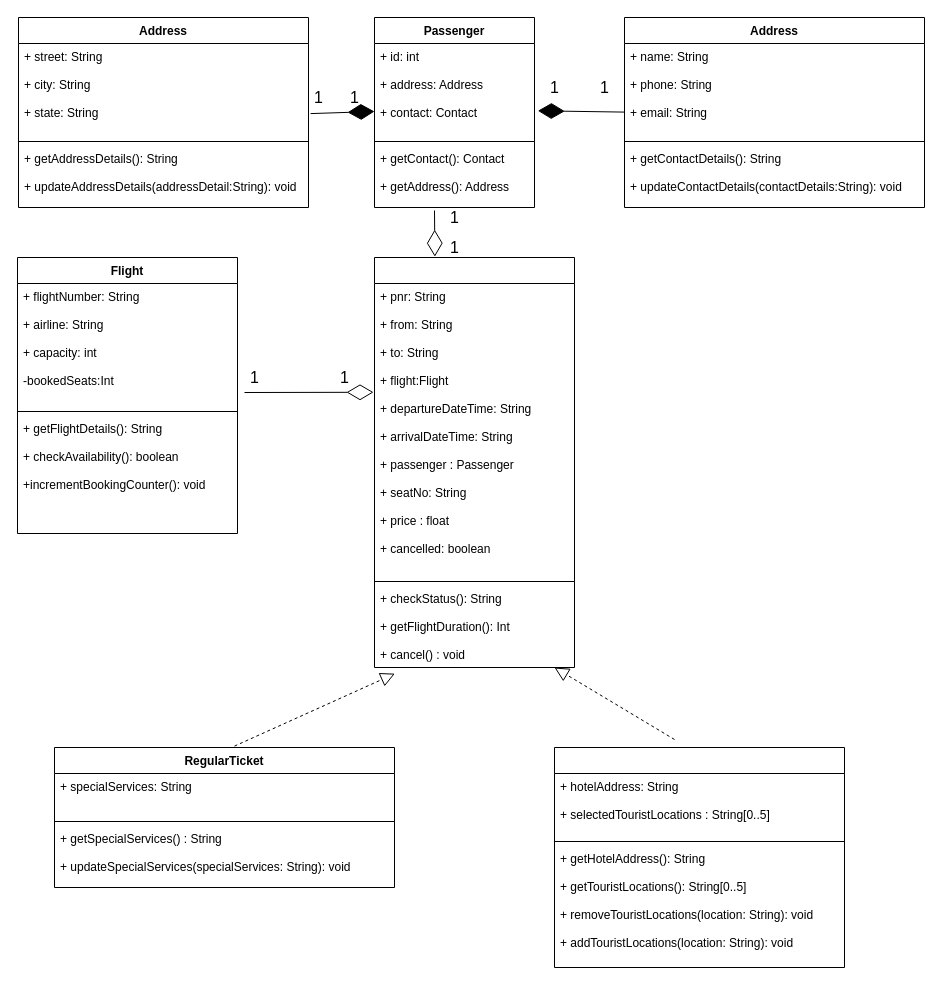
The diagram is 942 pixels wide and 988 high, and some of its shapes have lost their labels. Each missing label, with the box of its shape:
Ticket: (374, 256, 574, 668)
TouristTicket: (554, 746, 844, 968)
